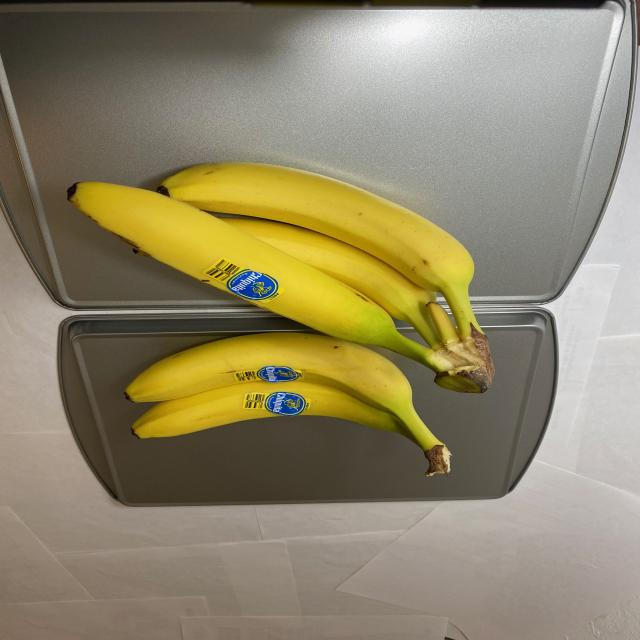banana: (59, 114, 494, 476)
